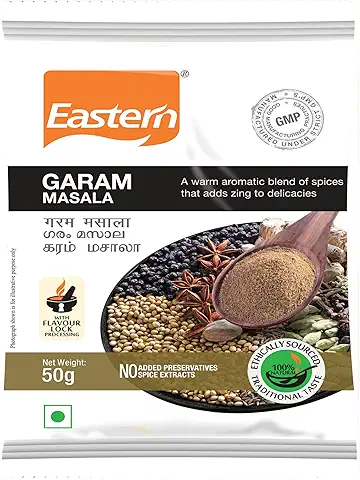Garamasala: (4, 16, 360, 480)
